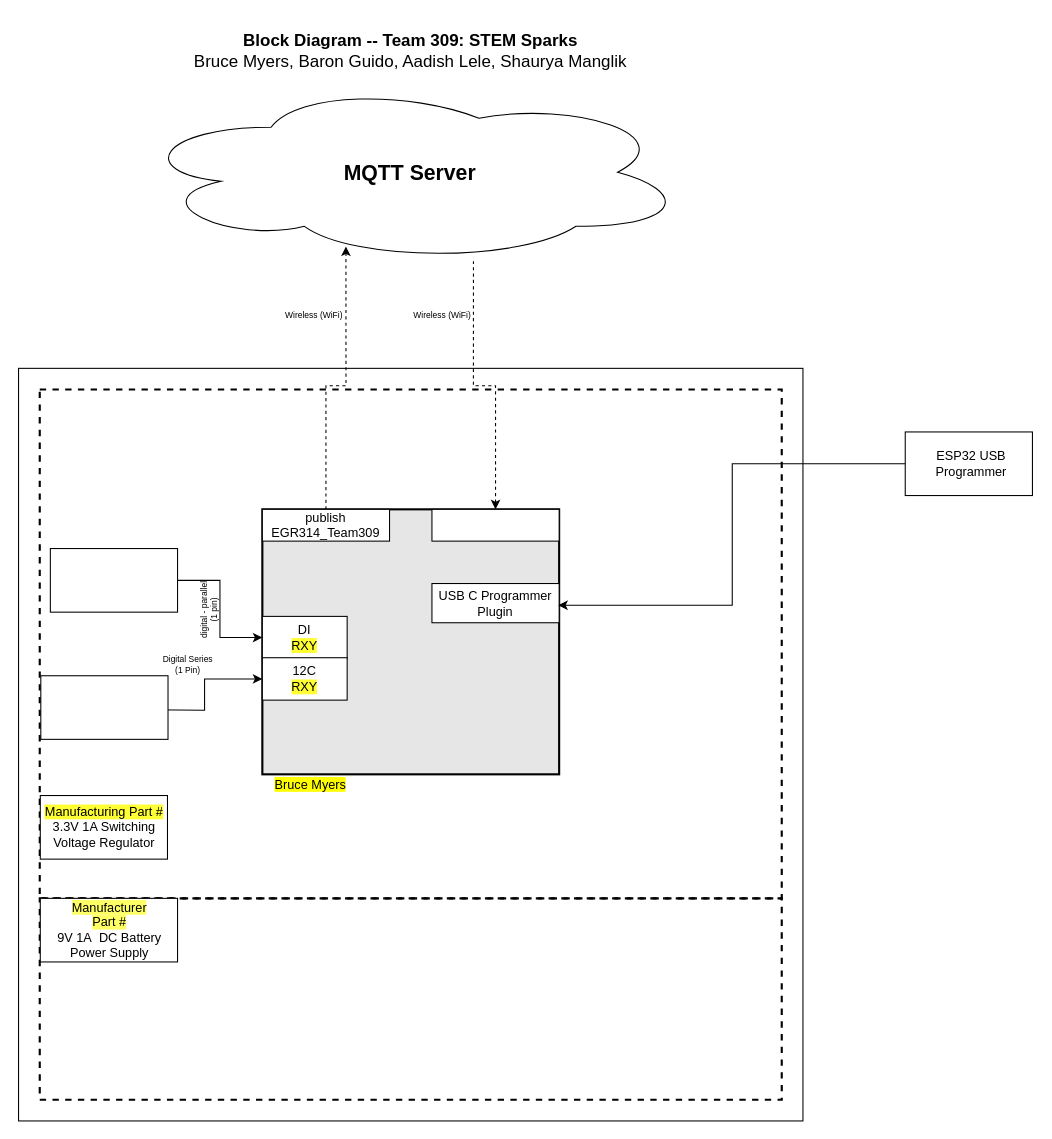
Some shapes in this 1052 by 1139 pixel diagram are drawn without their labels. The box of each missing label's shape, as (x1, y1, x2, y2) in pixels:
Manifactuing Part # OLED: (40, 675, 168, 739)
Manufacturing Part # Pushbutton: (49, 547, 178, 612)
Microchip ESP32 Wifi Module: (261, 508, 560, 775)
subscribe TBD: (431, 508, 559, 541)
